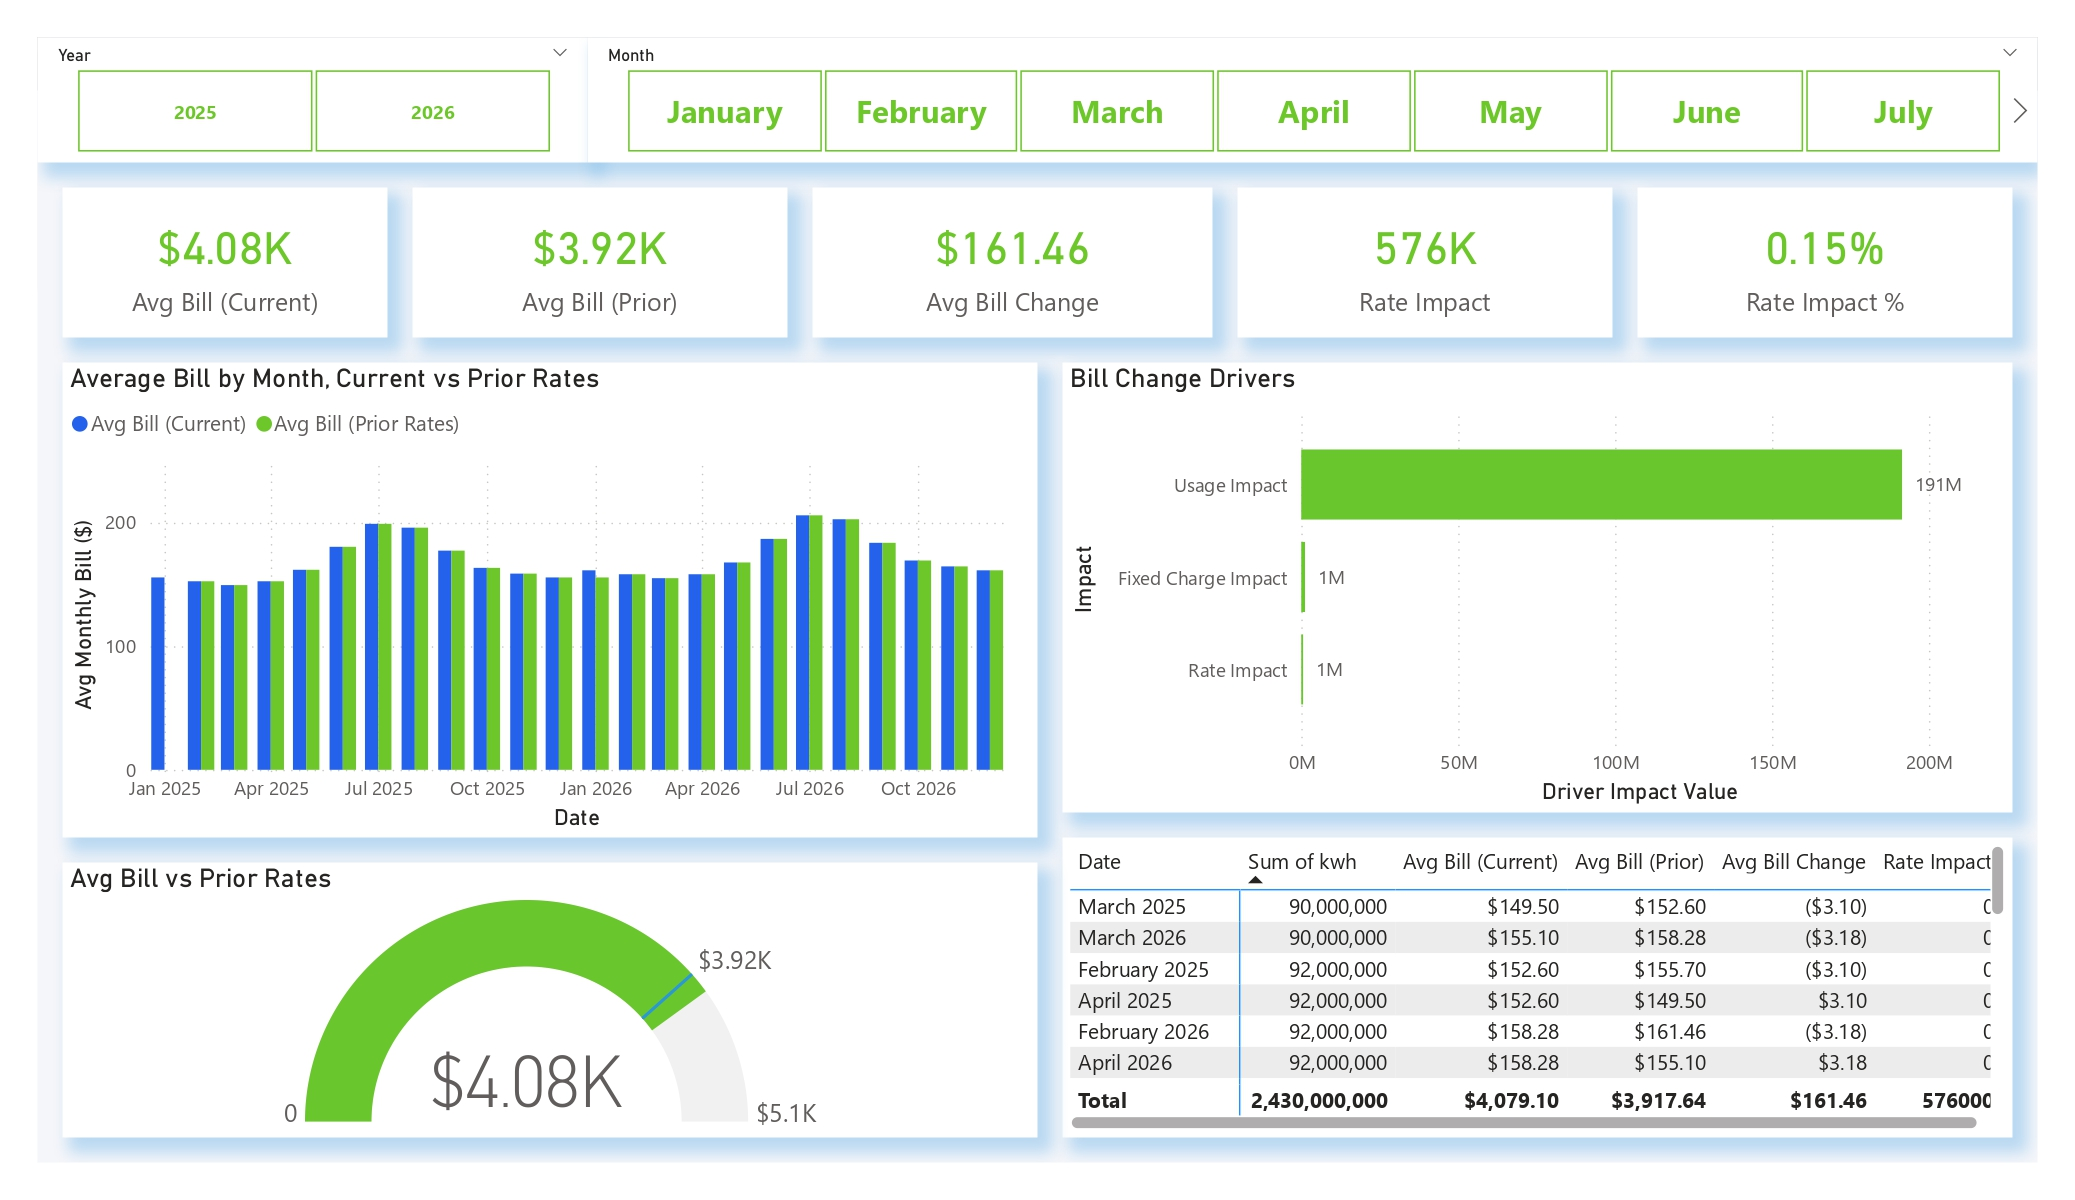

The page's visual inventory and layout, read from the dashboard file:
{"tool":"powerbi","page":{"name":"Bill Comparison","canvas":[1280,720],"ordinal":2},"visuals":[{"type":"slicer","fields":{"Values":["DateTable.Year"]},"box":[0,0,352,80],"z":0},{"type":"slicer","fields":{"Values":["DateTable.Month"]},"box":[352,0,928,80],"z":1000},{"type":"card","fields":{"Values":["DateTable.Avg Bill (Current)"]},"box":[16,96,208,96],"z":2000},{"type":"card","fields":{"Values":["DateTable.Avg Bill (Prior)"]},"box":[240,96,240,96],"z":3000},{"type":"card","fields":{"Values":["DateTable.Avg Bill Change"]},"box":[496,96,256,96],"z":4000},{"type":"card","fields":{"Values":["DateTable.Rate Impact"]},"box":[768,96,240,96],"z":5000},{"type":"card","fields":{"Values":["DateTable.Rate Impact %"]},"box":[1024,96,240,96],"z":6000},{"type":"clusteredColumnChart","title":"Average Bill by Month, Current vs Prior Rates","fields":{"Category":["DateTable.Date"],"Y":["DateTable.Avg Bill (Current)","BillWaterfallSteps.Avg Bill (Prior Rates)"]},"box":[16,208,624,304],"z":7000},{"type":"clusteredBarChart","title":"Bill Change Drivers","fields":{"Category":["BillWaterfallSteps.Step"],"Y":["BillWaterfallSteps.Driver Impact Value"]},"box":[656,208,608,288],"z":8000},{"type":"pivotTable","fields":{"Rows":["DateTable.Date"],"Values":["Sum(bill_comparison_monthly.kwh)","DateTable.Avg Bill (Current)","DateTable.Avg Bill (Prior)","DateTable.Avg Bill Change","DateTable.Rate Impact"]},"box":[656,512,608,192],"z":9000},{"type":"gauge","title":"Avg Bill vs Prior Rates","fields":{"Y":["DateTable.Avg Bill (Current)"],"TargetValue":["DateTable.Avg Bill (Prior)"],"MinValue":["DateTable.Min Gauge"],"MaxValue":["BillWaterfallSteps.Gauge Max 2"]},"box":[16,528,624,176],"z":10000}]}

Visuals, with their boxes in screenshot pixels (x1, y1, x2, y2):
slicer - DateTable.Year: BBox(38, 38, 588, 162)
slicer - DateTable.Month: BBox(588, 38, 2038, 162)
card - DateTable.Avg Bill (Current): BBox(62, 188, 388, 338)
card - DateTable.Avg Bill (Prior): BBox(412, 188, 788, 338)
card - DateTable.Avg Bill Change: BBox(812, 188, 1212, 338)
card - DateTable.Rate Impact: BBox(1238, 188, 1612, 338)
card - DateTable.Rate Impact %: BBox(1638, 188, 2012, 338)
"Average Bill by Month, Current vs Prior Rates" clusteredColumnChart: BBox(62, 362, 1038, 838)
"Bill Change Drivers" clusteredBarChart: BBox(1062, 362, 2012, 812)
pivotTable - DateTable.Date x Sum(bill_comparison_monthly.kwh): BBox(1062, 838, 2012, 1138)
"Avg Bill vs Prior Rates" gauge: BBox(62, 862, 1038, 1138)
